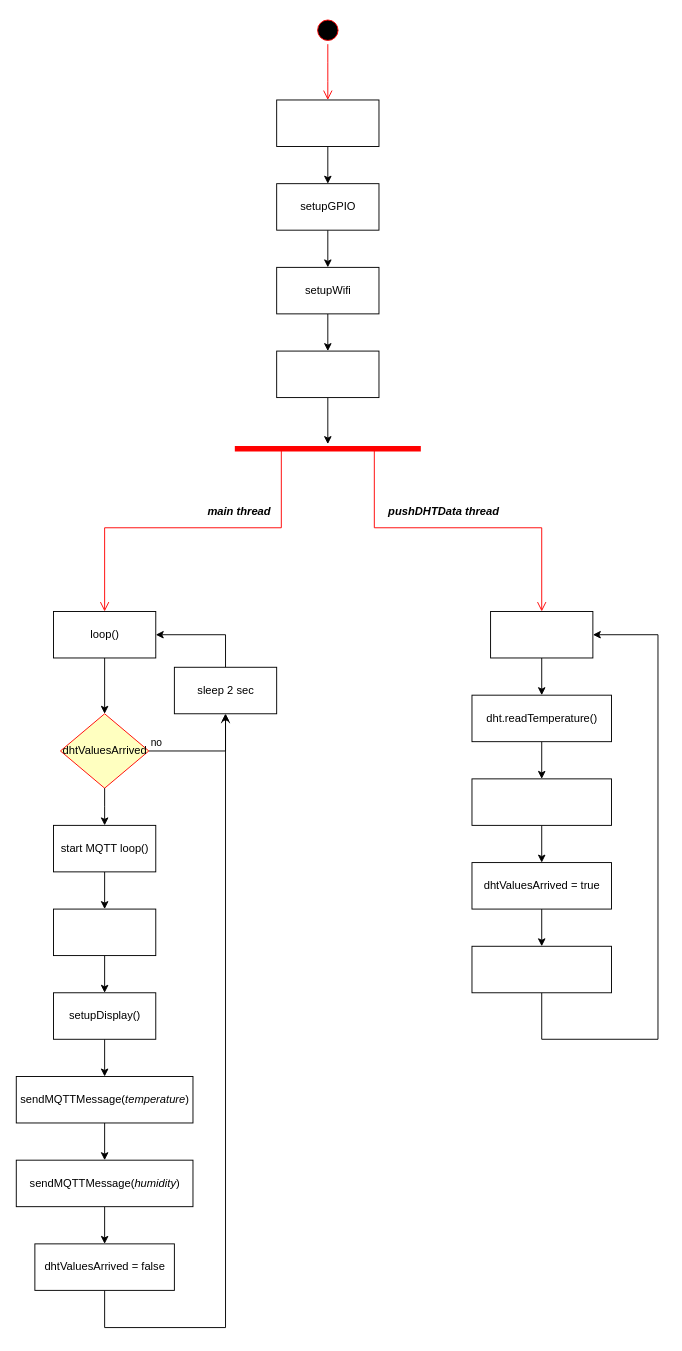
Image size: 682x1351. Some labels were removed from this diagram. The shapes that lost their labels are listed below. From the top down, each one's box as (x1, y1, x2, y2) in pixels, then its label:
(276, 99, 379, 146): setupDisplay
(276, 350, 379, 398): createThread: pushDHTData
(490, 611, 593, 658): dht.read()
(471, 778, 611, 825): dht.readHumidity()
(53, 908, 156, 956): setupNTP()
(471, 945, 611, 993): sleep 30 sec
